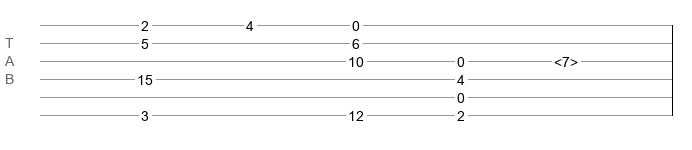0: (352, 18, 360, 28), (457, 54, 465, 64), (457, 90, 465, 100)
10: (348, 54, 364, 64)
12: (348, 108, 364, 118)
15: (137, 72, 153, 82)
2: (141, 18, 149, 28), (457, 108, 465, 118)
3: (141, 108, 149, 118)
4: (246, 18, 254, 28), (457, 72, 465, 82)
5: (141, 36, 149, 46)
6: (352, 36, 360, 46)
harmonic: (554, 54, 578, 64)
